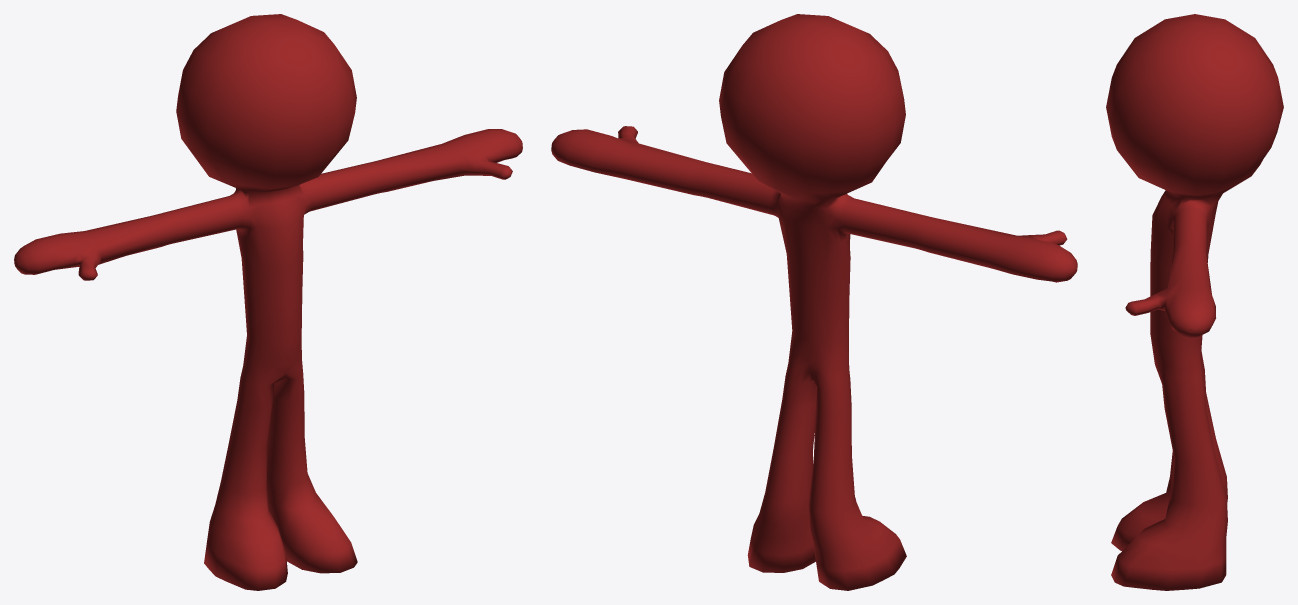
File: caracter.fbx
3 renders of one model, left to right at view 1: azimuth 30°, elevation 25°; view 2: azimuth 150°, elevation 25°; view 3: azimuth 270°, elevation 25°, orthographic. The views are drawn at different scales.
Visible parts, largest first — view 1: caracter; view 2: caracter; view 3: caracter.
Part boxes in pixels (box(x1,y1,x2,y2)): caracter: box(14, 14, 522, 590); caracter: box(551, 14, 1077, 590); caracter: box(1106, 14, 1283, 590).
Bounding box in the file's own units: 200 × 200 × 60.2.
